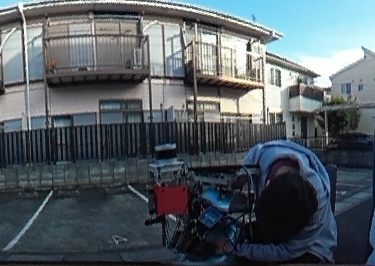person: (240, 138, 336, 266)
